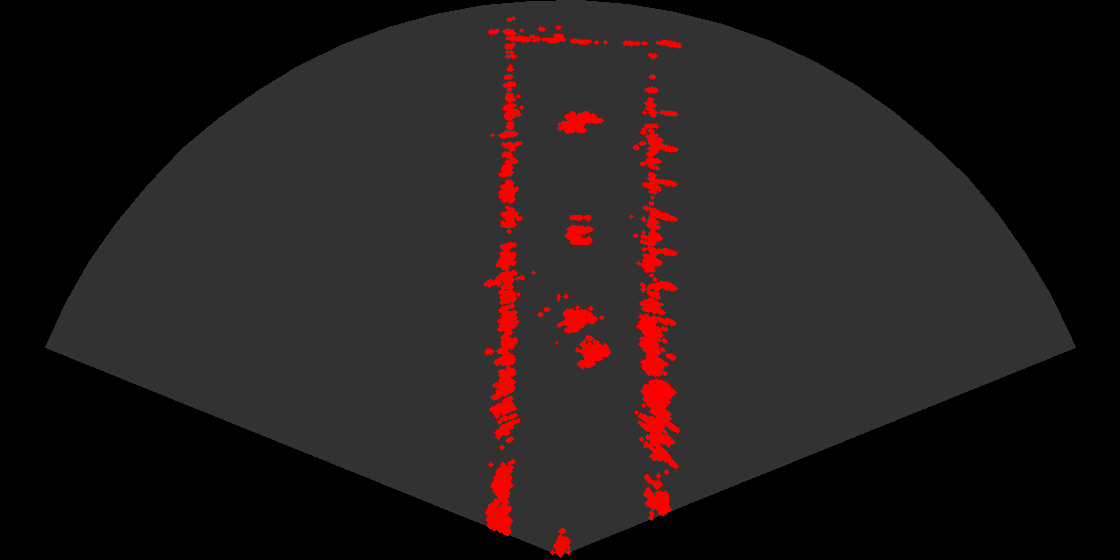AUV: (551, 109, 607, 141)
ball: (545, 207, 605, 248)
cage: (556, 294, 619, 378)
